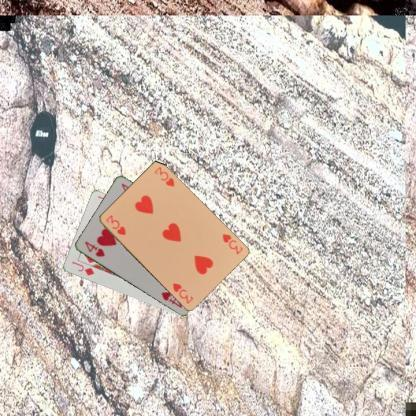3h: (219, 231, 244, 256), (102, 212, 127, 236)
4h: (82, 239, 106, 258)
Jd: (70, 258, 96, 277)
